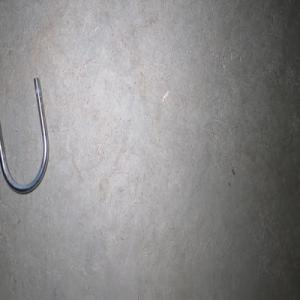ClampPart: (0, 76, 49, 195)
